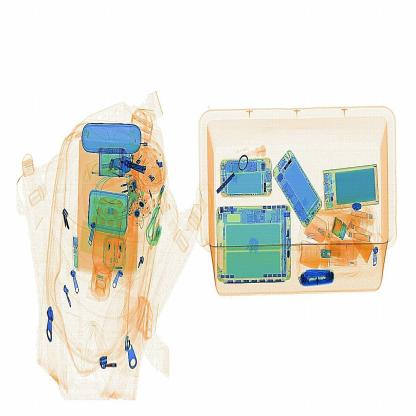scissors: (299, 264, 334, 286)
